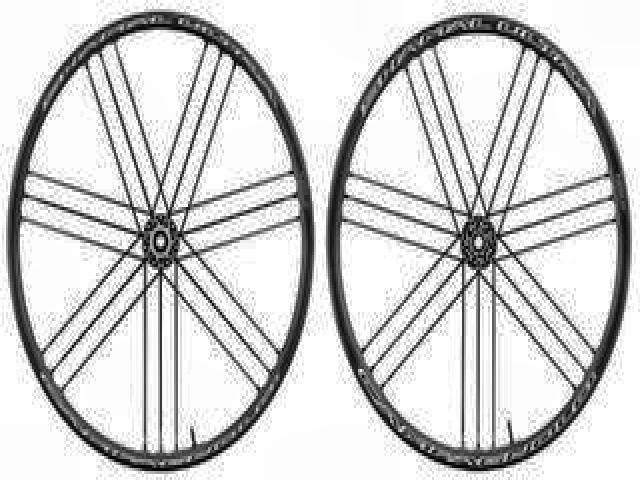wheel: (325, 4, 633, 473), (7, 6, 315, 472)
